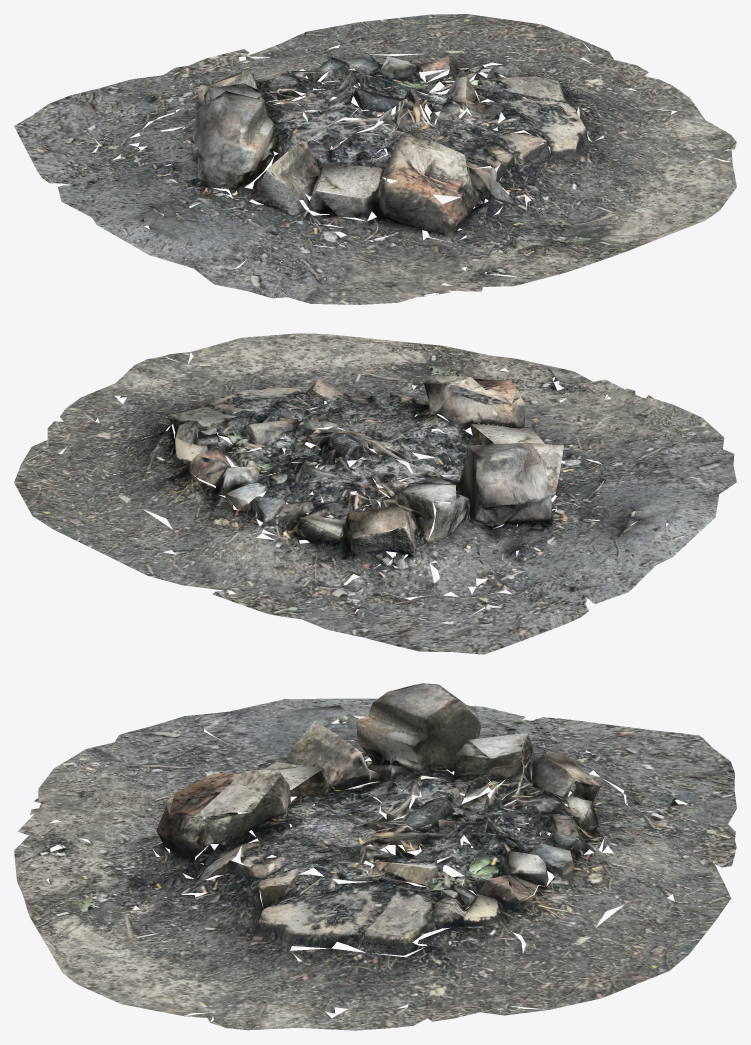
Rendered from campfire.glb.
3 renders of one model, top to bottom at view 1: azimuth 30°, elevation 25°; view 2: azimuth 150°, elevation 25°; view 3: azimuth 270°, elevation 25°, orthographic. The views are drawn at different scales.
Parts seen in each view (by area): view 1: fireplace; view 2: fireplace; view 3: fireplace.
Part boxes in pixels (x1=…): fireplace: x1=14, y1=14, x2=736, y2=304; fireplace: x1=14, y1=333, x2=736, y2=654; fireplace: x1=14, y1=683, x2=736, y2=1030.
Bounding box in the file's own units: 1.7 × 0.2501 × 1.57.
Materials: 3 (3 with a texture image).
